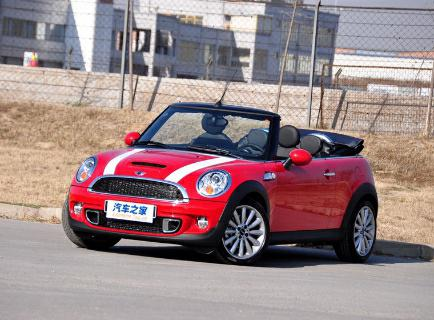MINI: (60, 102, 378, 264)
